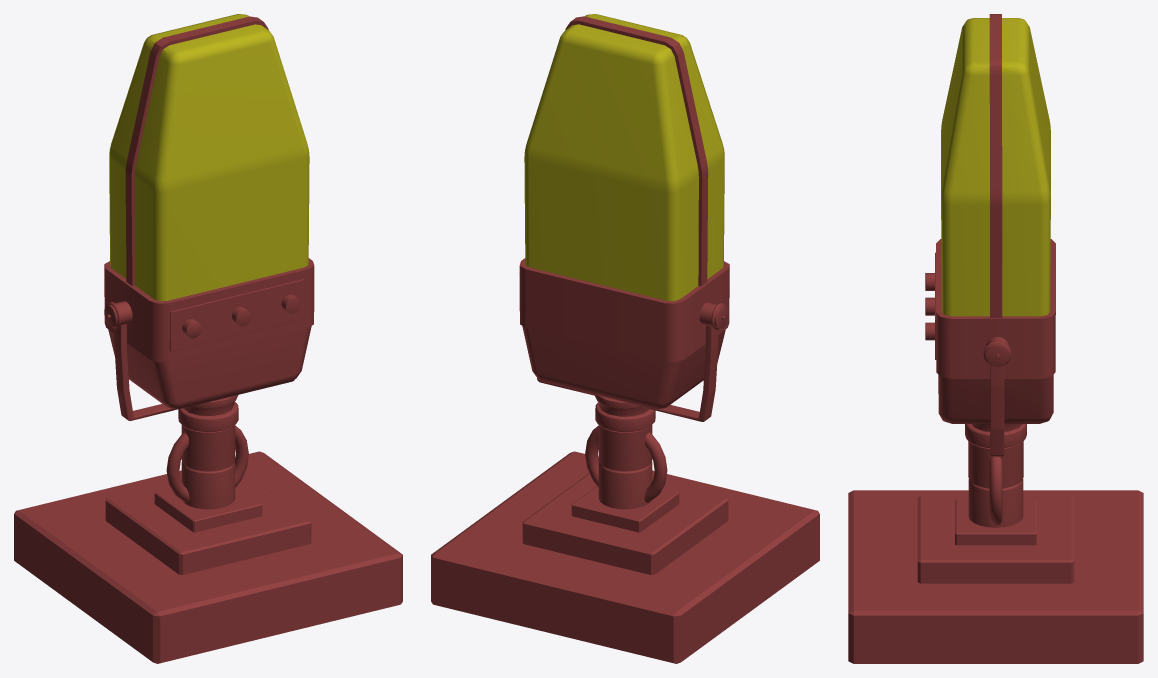
The model's file is Mic_FBX.fbx.
3 renders of one model, left to right at view 1: azimuth 30°, elevation 25°; view 2: azimuth 150°, elevation 25°; view 3: azimuth 270°, elevation 25°, orthographic. The views are drawn at different scales.
Parts seen in each view (by area): view 1: pCube14; view 2: pCube14; view 3: pCube14.
Boxes of the visible parts, bbox=[...] form: pCube14: bbox=[14, 14, 402, 663]; pCube14: bbox=[431, 14, 819, 663]; pCube14: bbox=[848, 14, 1143, 663].
Size of the model in its own units: 15.14 by 15.14 by 32.09.
